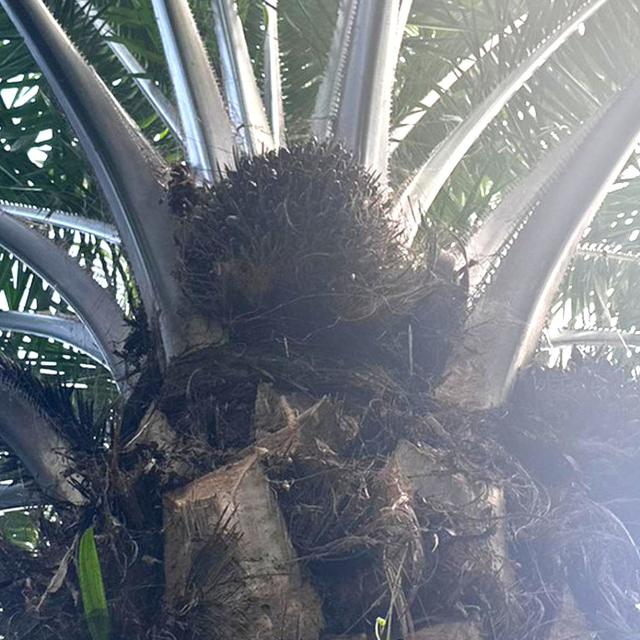unripe: (172, 132, 416, 322)
